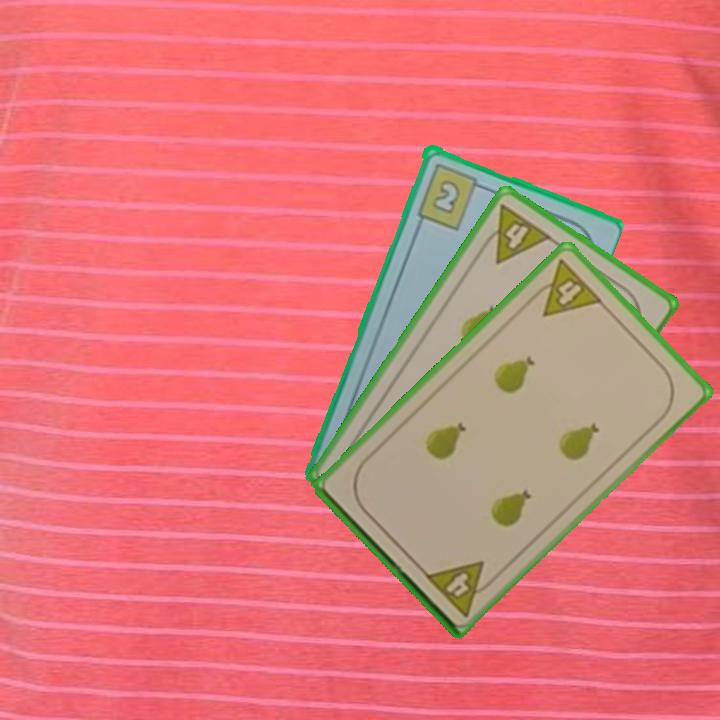2b: (413, 159, 488, 232)
4p: (475, 200, 555, 267), (525, 255, 606, 320), (421, 556, 500, 620)
